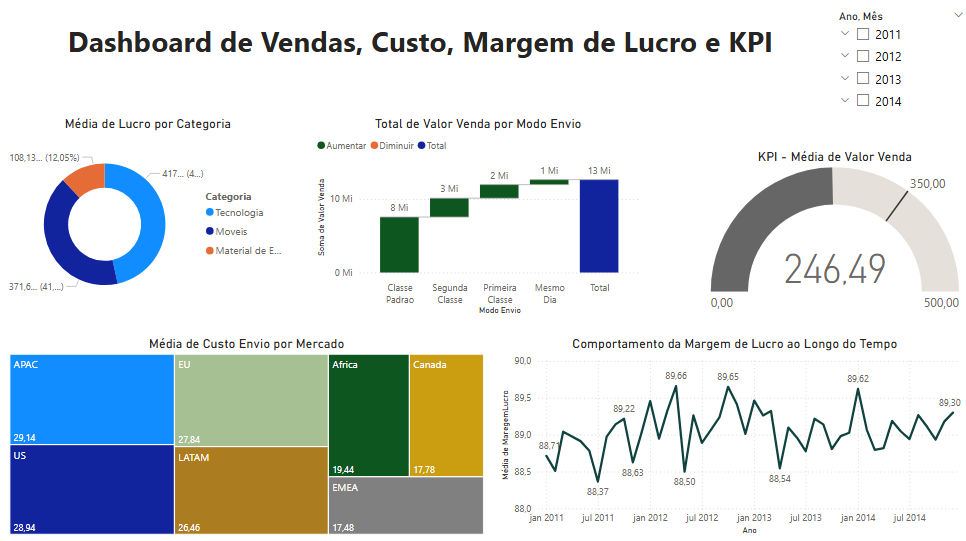

The page's visual inventory and layout, read from the dashboard file:
{"tool":"powerbi","page":{"name":"Página 1","canvas":[1280,720],"ordinal":0},"visuals":[{"type":"waterfallChart","title":"Total de Valor Venda por Modo Envio","fields":{"Category":["Pedidos.Modo Envio"],"Y":["Sum(Vendas.Valor Venda)"]},"box":[411.4,152.8,434.9,266],"z":0},{"type":"treemap","fields":{"Group":["Clientes.Mercado"],"Values":["Avg(Vendas.Custo Envio)"]},"box":[7.3,442.3,633.3,266],"z":1000},{"type":"gauge","title":"KPI - Média de Valor Venda","fields":{"Y":["Avg(Vendas.Valor Venda)"]},"box":[916.9,195.4,362.9,223.3],"z":2000},{"type":"slicer","fields":{"Values":["Pedidos.Data Pedido.Variation.Hierarquia de datas.Ano","Pedidos.Data Pedido.Variation.Hierarquia de datas.Mês"]},"box":[1090.3,7.3,189.6,145.5],"z":3000},{"type":"donutChart","fields":{"Category":["Produtos.Categoria"],"Y":["Avg(Vendas.Lucro)"]},"box":[0,152.8,389.4,266],"z":4000},{"type":"lineChart","title":"Comportamento da Margem de Lucro ao Longo do Tempo","fields":{"Y":["Avg(Vendas.MaregemLucro)"],"Category":["Pedidos.Data Pedido.Variation.Hierarquia de datas.Ano","Pedidos.Data Pedido.Variation.Hierarquia de datas.Trimestre","Pedidos.Data Pedido.Variation.Hierarquia de datas.Mês"]},"box":[653.9,442.3,626,266],"z":5000},{"type":"textbox","box":[83.8,23.5,978.6,113.1],"z":5001}]}

Visuals, with their boxes in screenshot pixels (x1, y1, x2, y2), scaled from the page's 1280x720 canvas onto the 966x541 screenshot:
"Total de Valor Venda por Modo Envio" waterfallChart: box=[310, 115, 639, 315]
treemap - Clientes.Mercado x Avg(Vendas.Custo Envio): box=[6, 332, 483, 532]
"KPI - Média de Valor Venda" gauge: box=[692, 147, 965, 315]
slicer - Pedidos.Data Pedido.Variation.Hierarquia de datas.Ano x Pedidos.Data Pedido.Variation.Hierarquia de datas.Mês: box=[823, 5, 965, 115]
donutChart - Produtos.Categoria x Avg(Vendas.Lucro): box=[0, 115, 294, 315]
"Comportamento da Margem de Lucro ao Longo do Tempo" lineChart: box=[493, 332, 965, 532]
textbox: box=[63, 18, 802, 103]
